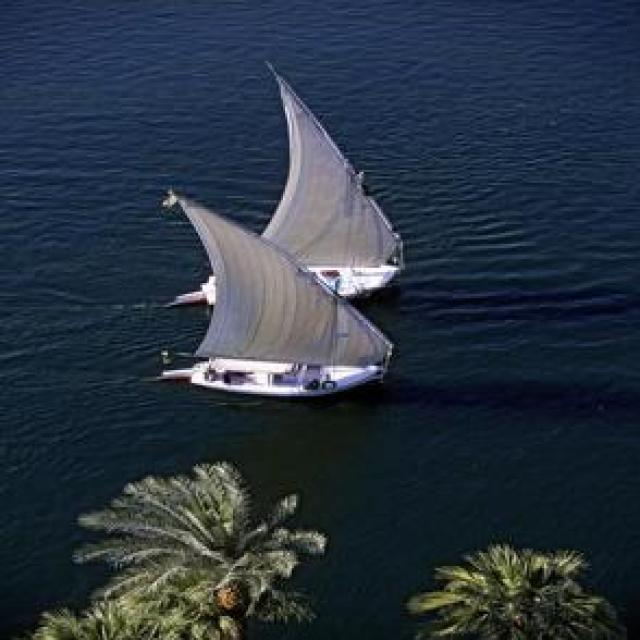sailboat: (160, 187, 389, 400), (201, 59, 397, 303)
